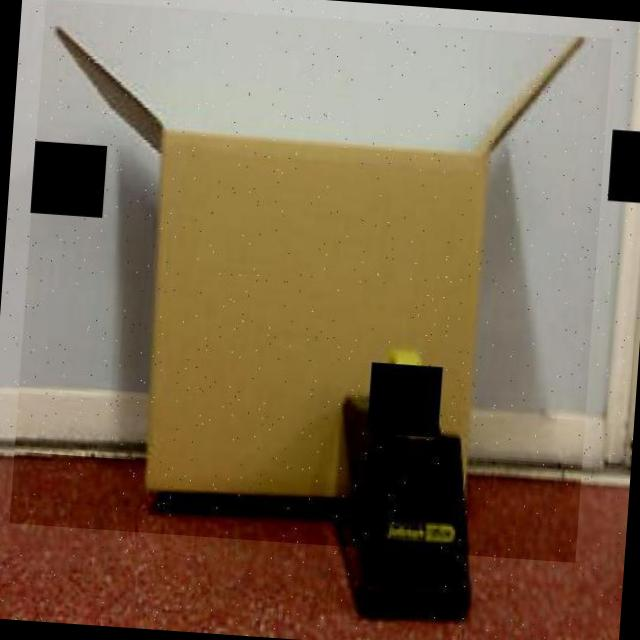box: (9, 0, 611, 563)
